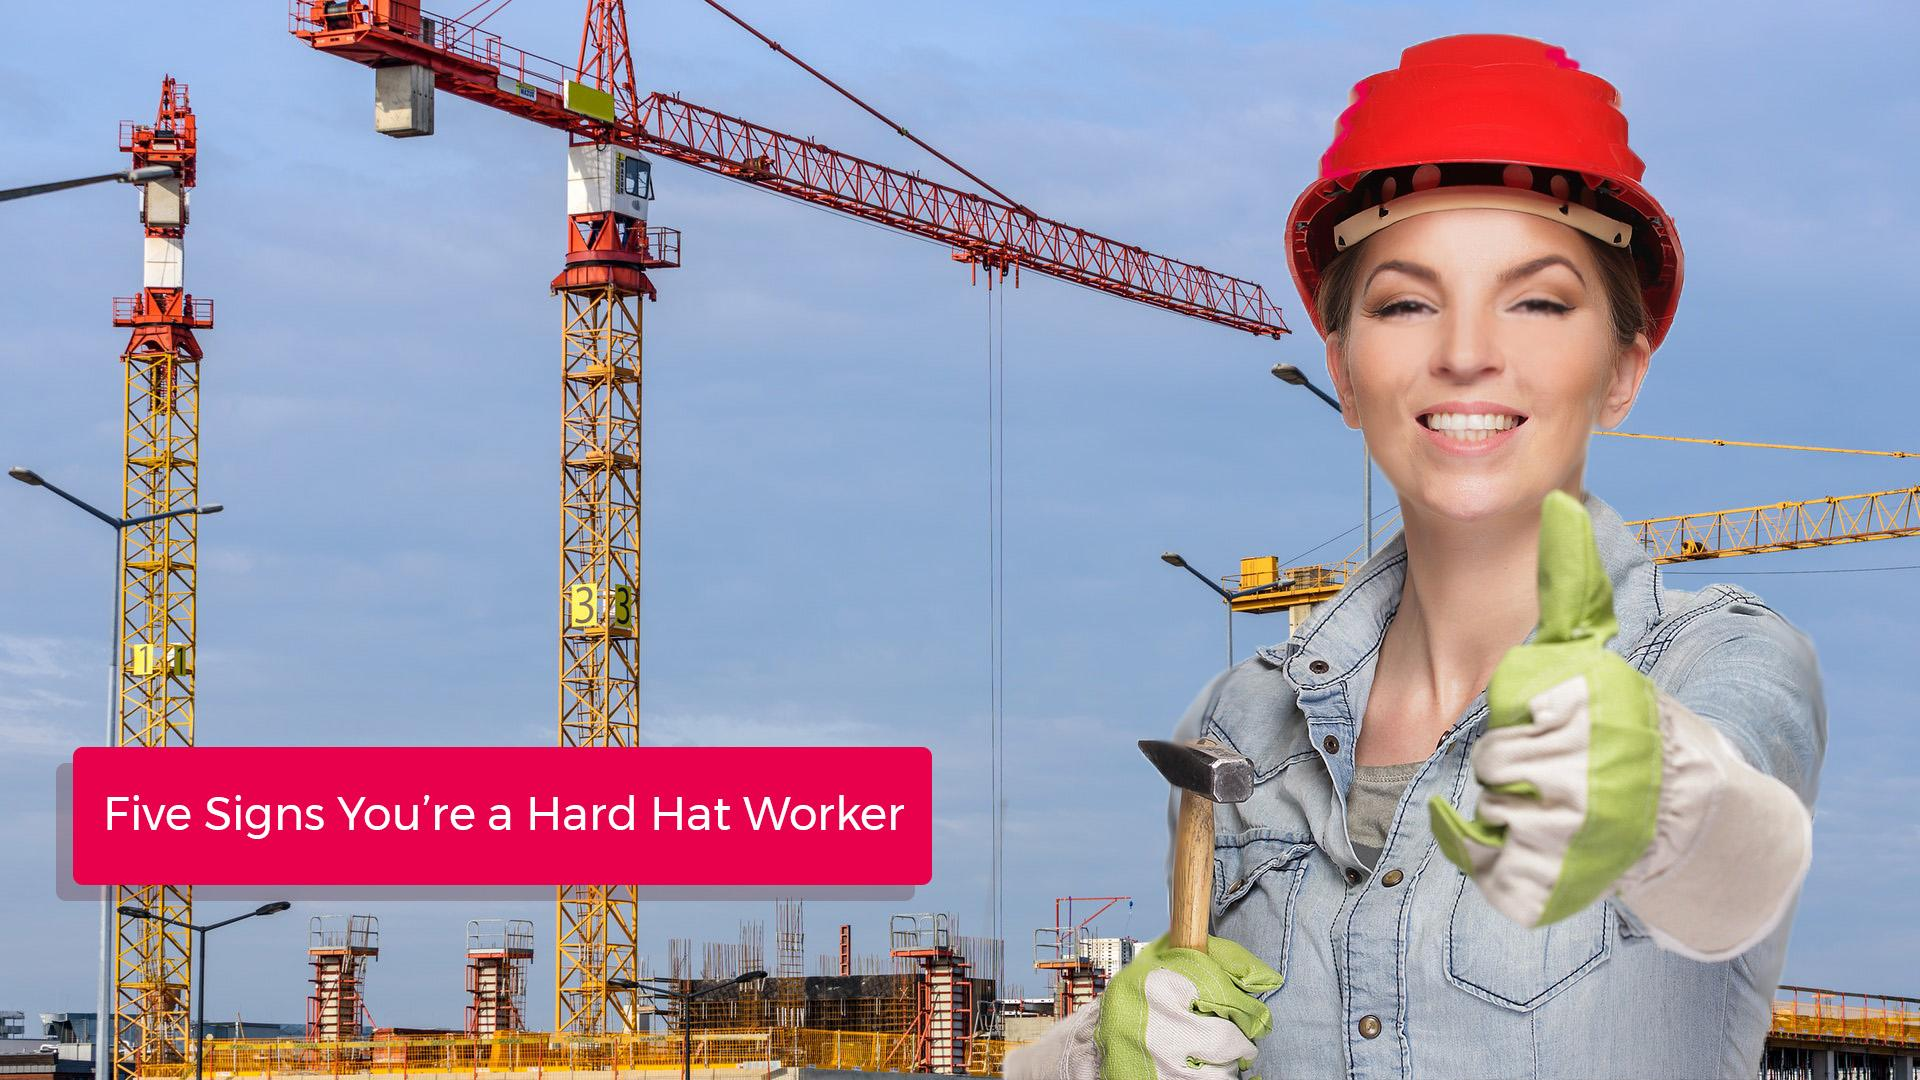helmet: (1286, 36, 1681, 344)
